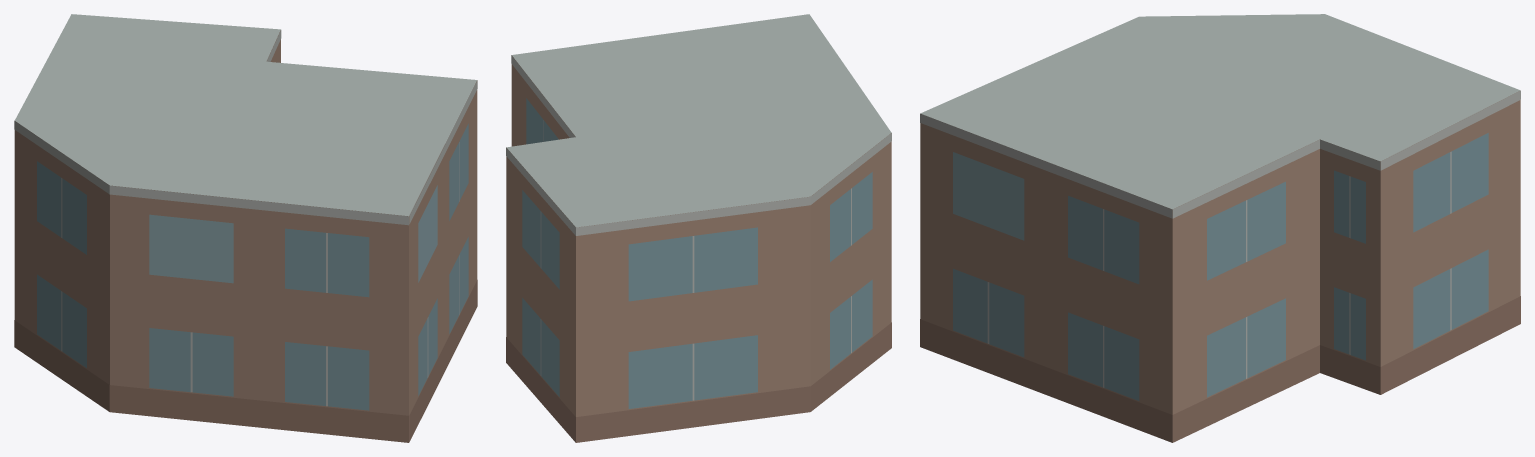
Rendered from survey-upis-32604036.glb.
3 views of the same model, side by side, from view 1: azimuth 30°, elevation 25°; view 2: azimuth 150°, elevation 25°; view 3: azimuth 270°, elevation 25° (orthographic). The views are drawn at different scales.
Visible parts, largest first — view 1: survey-upis-32604036.tmp; view 2: survey-upis-32604036.tmp; view 3: survey-upis-32604036.tmp.
Boxes of the visible parts, x1=… form: survey-upis-32604036.tmp: x1=14, y1=14, x2=477, y2=442; survey-upis-32604036.tmp: x1=506, y1=14, x2=891, y2=442; survey-upis-32604036.tmp: x1=920, y1=14, x2=1520, y2=442.
Bounding box in the file's own units: 10.96 × 6.1 × 14.23.
